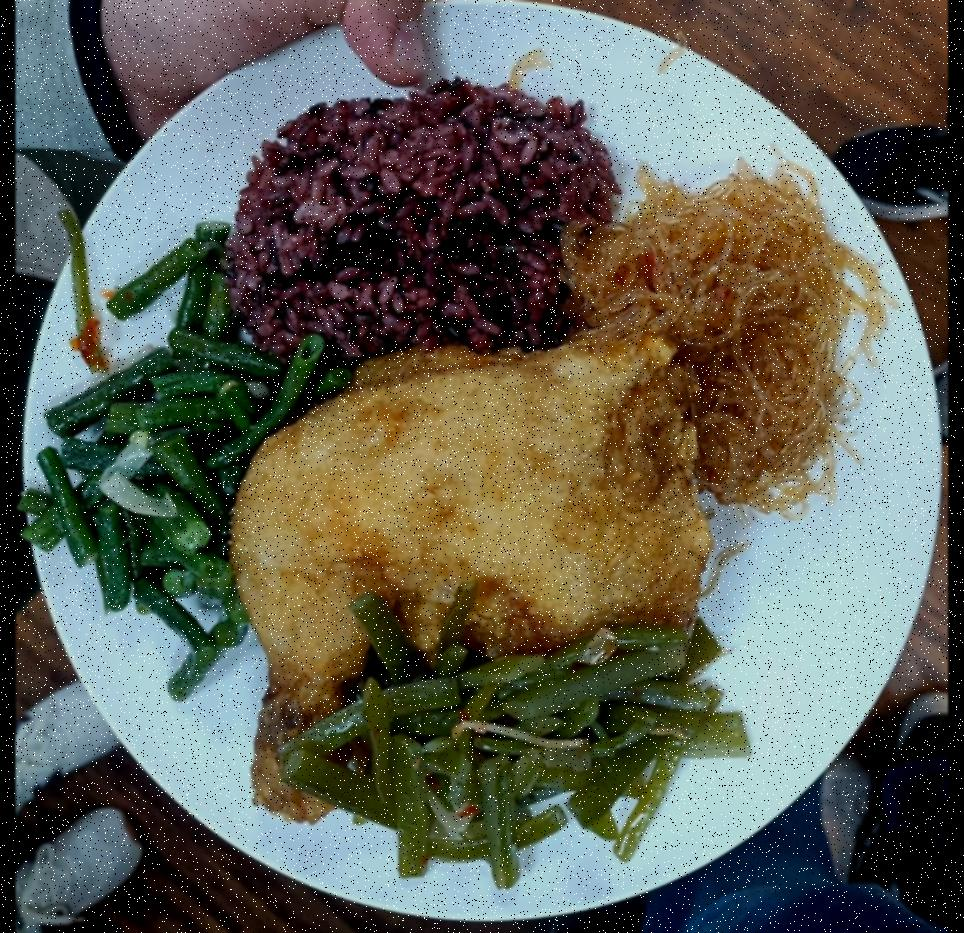big fried chicken leg: (26, 0, 939, 933)
braised fish: (228, 77, 599, 378)
braised fish fillet: (36, 215, 325, 697), (294, 594, 747, 871), (562, 163, 866, 507)
brown rice: (238, 330, 704, 827)
